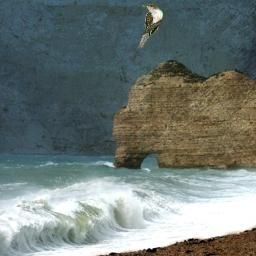Cuckoo: (138, 4, 163, 48)
